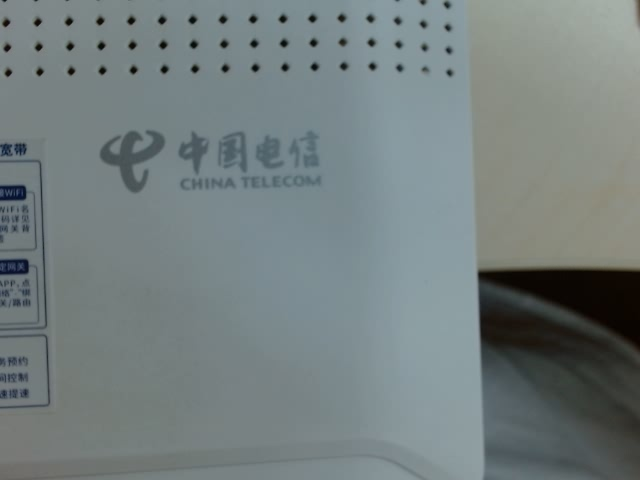AB_ChinaTelecom: (86, 116, 339, 201)
